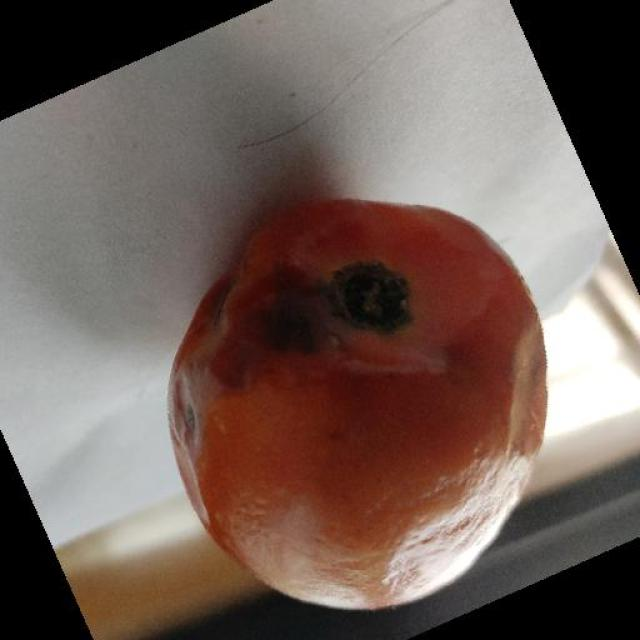Stale_tomato: (181, 201, 552, 592)
